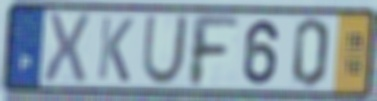0: (289, 15, 332, 91)
6: (242, 17, 281, 88)
F: (189, 12, 241, 90)
K: (95, 14, 136, 85)
U: (139, 14, 191, 88)
X: (41, 10, 93, 87)
